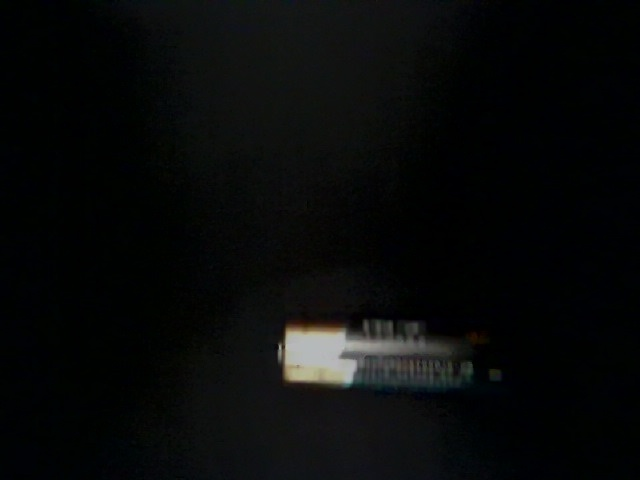QTLJ: (92, 311, 296, 469)
